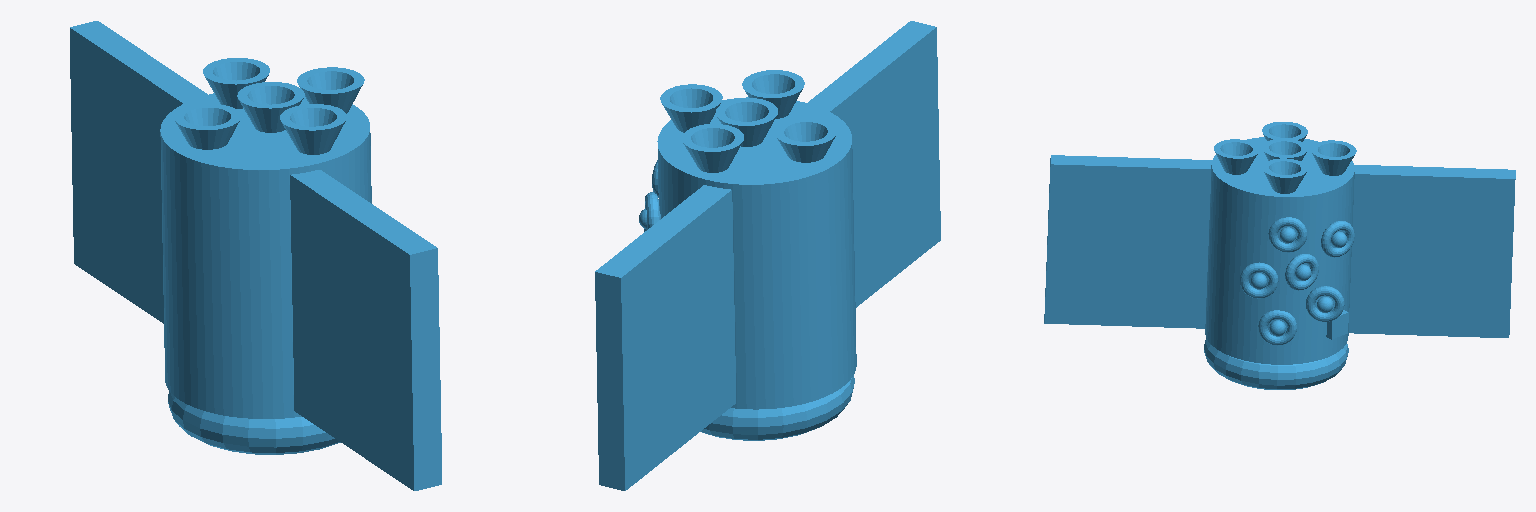
URDF robot description (satellite):
<robot name="satellite">
<!--base_link-->
     <link name="base_link">
       <collision>
            <geometry>
              <box size="0.00001 0.00001 0.00001"/>
            </geometry>
       </collision>
        <inertial>
           <mass value="1" />
           <origin xyz="0 0 0" rpy="0 0 0"/>
           <inertia ixx="1.0" ixy="0.0" ixz="0.0" iyy="1.0" iyz="0.0" izz="1" />
         </inertial>
     </link>
  <!--satellite-->
  <joint name="satellite_joint" type="fixed">
    <origin xyz="0 0 0" rpy="0 0 0"/>
    <parent link="base_link"/>
    <child link="satellite"/>
  </joint>
  <link name="satellite">
    <visual>
      <origin xyz="0 0 0" rpy="0 0 0"/>
      <geometry>
       <mesh filename= "package://point/meshes/satellite0.01.stl"/>
       <scale>0.1 0.1 0.1</scale>
      </geometry>
    </visual>
    <!-- <collision>
      <origin xyz="0 0 0" rpy="0 0 0"/>
      <geometry>
       <mesh filename= "package://point/meshes/satellite.stl"/>
      </geometry>
    </collision> -->
  </link>
  <gazebo reference="satellite">
        <material>Gazebo/Orange</material>    
  </gazebo>
</robot>
    <!-- <visual name='visual'>
      <geometry>
        <mesh>
          <uri>model://point/meshes/satellite.dae</uri>
          <scale>0.1 0.1 0.1</scale>
        </mesh>
      </geometry>
    </visual> -->

--- What the picture shows (computed from the rendered views, not written in the file) ---
The picture shows the robot from 3 angles, left to right: view 1: azimuth 30°, elevation 25°; view 2: azimuth 150°, elevation 25°; view 3: azimuth 270°, elevation 25°; orthographic projection.
Model satellite with 2 links and 1 joints (1 fixed), rooted at base_link, posed all joints at 0.
Links seen in each view (by area): view 1: satellite; view 2: satellite; view 3: satellite.
Boxes of the visible links, left/top/right/bottom form: satellite: left=70, top=21, right=441, bottom=490; satellite: left=595, top=21, right=940, bottom=490; satellite: left=1044, top=122, right=1515, bottom=389.
Size in the robot's own frame: 0.5633 by 1.7 by 0.9489 metres.
Meshes: 1 distinct files referenced, 1 mesh visuals loaded (1 binary STL).